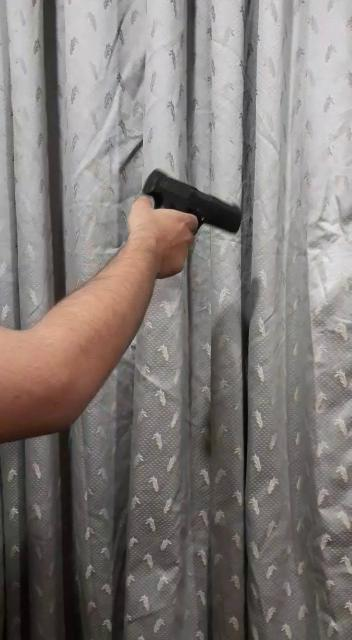weapon: (136, 170, 247, 242)
